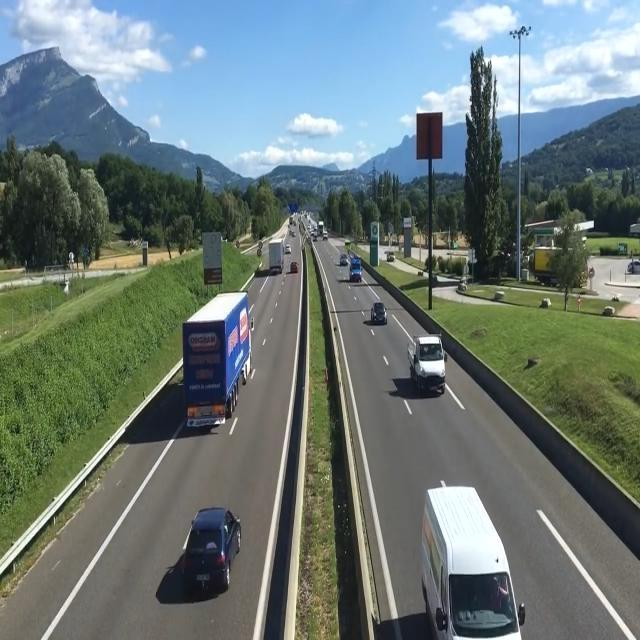Car: (178, 506, 244, 597), (368, 303, 390, 326), (339, 252, 349, 266), (290, 261, 300, 273), (386, 250, 395, 263), (284, 243, 292, 254)
Truck: (417, 484, 529, 640), (180, 291, 256, 435), (406, 333, 450, 398), (267, 237, 285, 275), (347, 258, 363, 283), (316, 220, 324, 238)
